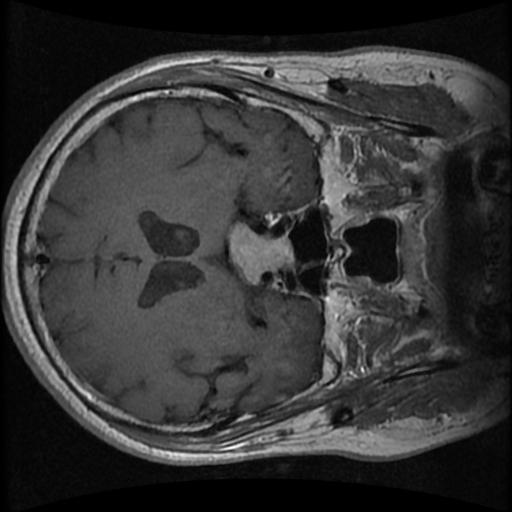pituitary tumour: (230, 222, 294, 283)
